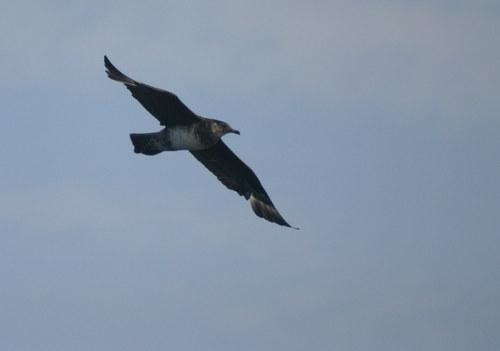bird: (101, 54, 300, 231)
